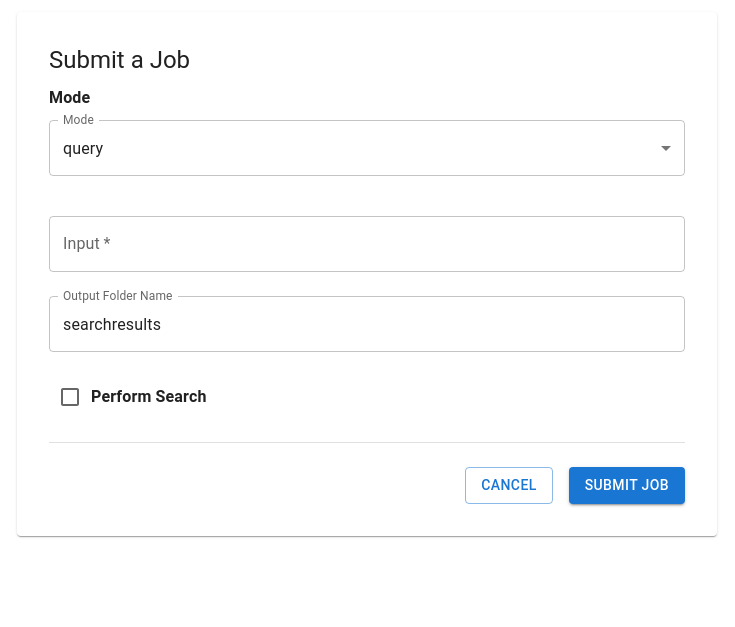
Scenario: JobForm › shows error alert on submission failure
Type "test input" into the field labelled "Input *" at (367, 244), box [49,216,685,272]
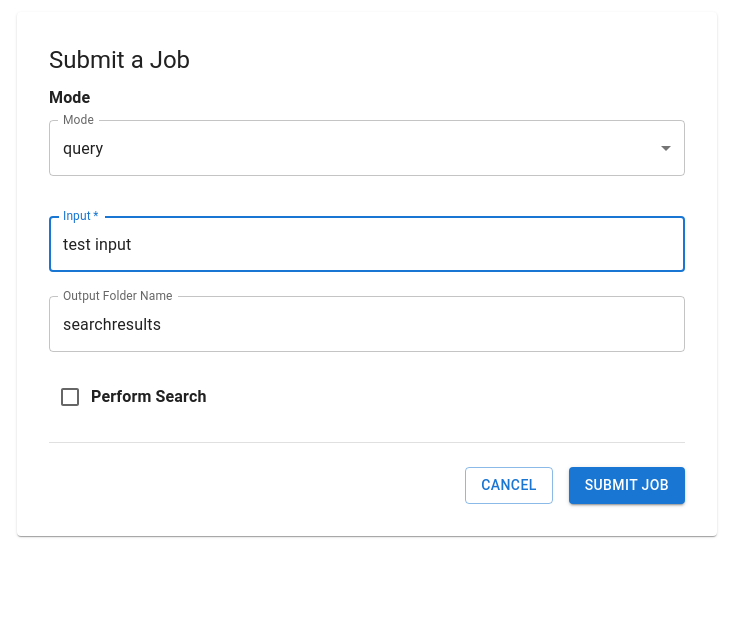
Click the button "Submit Job" at (627, 486), box [569,467,685,504]
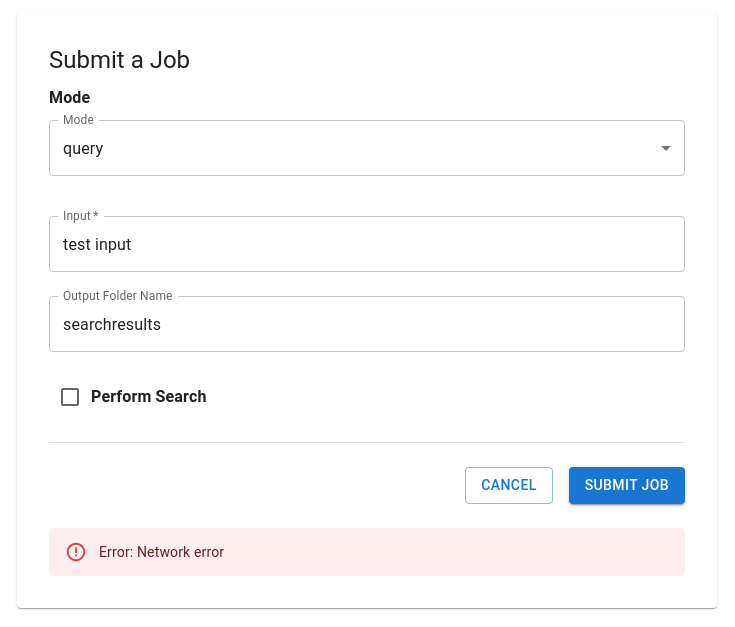
Expected: the message "Error: Network error" is shown, [49,528,685,576]
Expected: the text "Error: Network error" is shown, [137,544,224,560]
